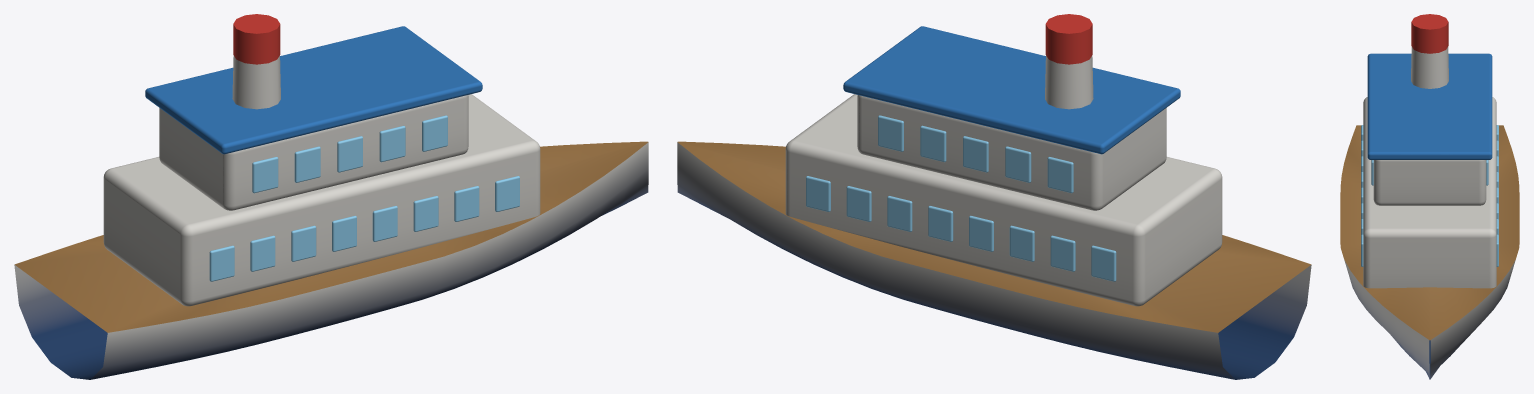
The model's file is sea_ferry.glb.
3 views of the same model, side by side, from view 1: azimuth 30°, elevation 25°; view 2: azimuth 150°, elevation 25°; view 3: azimuth 270°, elevation 25° (orthographic). The views are drawn at different scales.
Parts seen in each view (by area): view 1: sea_ferry_main, sea_ferry_glass; view 2: sea_ferry_main, sea_ferry_glass; view 3: sea_ferry_main, sea_ferry_glass.
Part boxes in pixels (<box>): sea_ferry_main: <box>14,14,648,379</box>; sea_ferry_glass: <box>209,115,519,281</box>; sea_ferry_main: <box>677,14,1311,379</box>; sea_ferry_glass: <box>806,115,1116,281</box>; sea_ferry_main: <box>1340,14,1519,379</box>; sea_ferry_glass: <box>1361,125,1498,266</box>.
Bounding box in the file's own units: 3.6 × 1.75 × 1.21.
